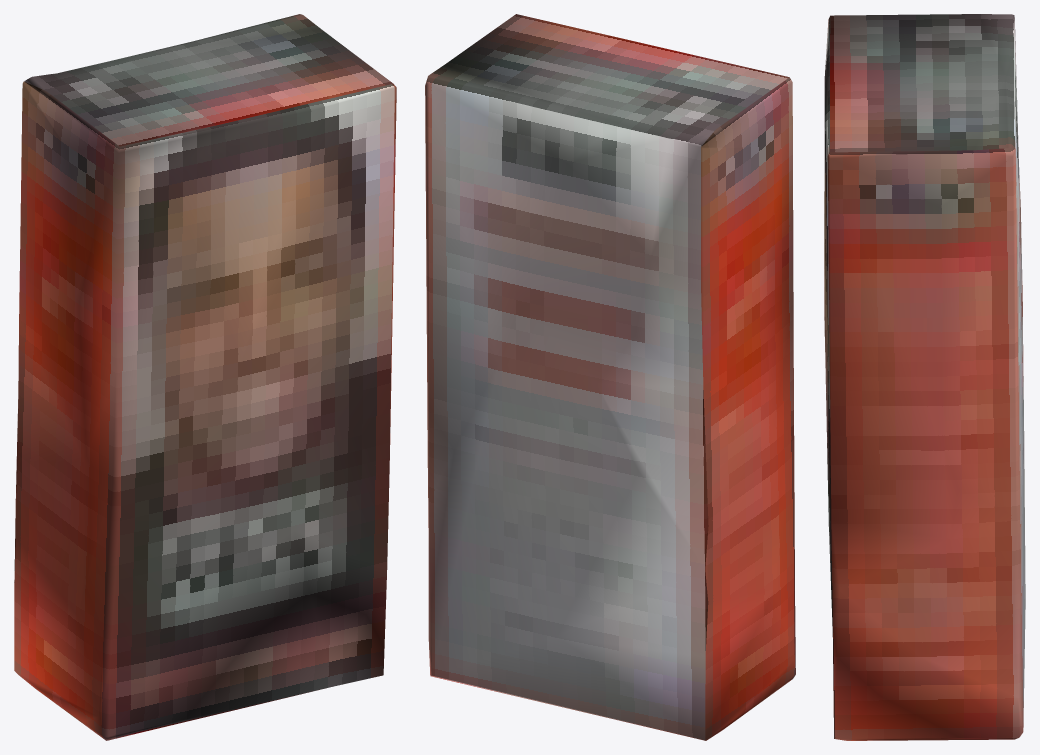
File: Just_For_Men_ShampooIn_Haircolor_Jet_Black_60-low.glb
The picture shows the model from 3 angles, left to right: view 1: azimuth 30°, elevation 25°; view 2: azimuth 150°, elevation 25°; view 3: azimuth 270°, elevation 25°; orthographic projection.
Visible parts, largest first — view 1: Just_For_Men_ShampooIn_Haircolor_Jet_Black_60; view 2: Just_For_Men_ShampooIn_Haircolor_Jet_Black_60; view 3: Just_For_Men_ShampooIn_Haircolor_Jet_Black_60.
Boxes of the visible parts, x1,y1,x2,y2 form: Just_For_Men_ShampooIn_Haircolor_Jet_Black_60: [14, 14, 396, 740]; Just_For_Men_ShampooIn_Haircolor_Jet_Black_60: [425, 14, 795, 740]; Just_For_Men_ShampooIn_Haircolor_Jet_Black_60: [824, 14, 1025, 740].
Size of the model in its own units: 0.0792 by 0.1562 by 0.0475.
1 material, 1 textured.
